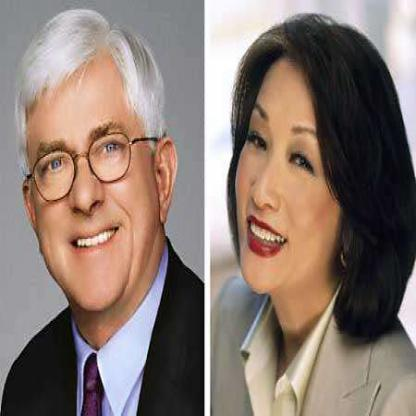face: (26, 13, 157, 317), (232, 36, 355, 311)
